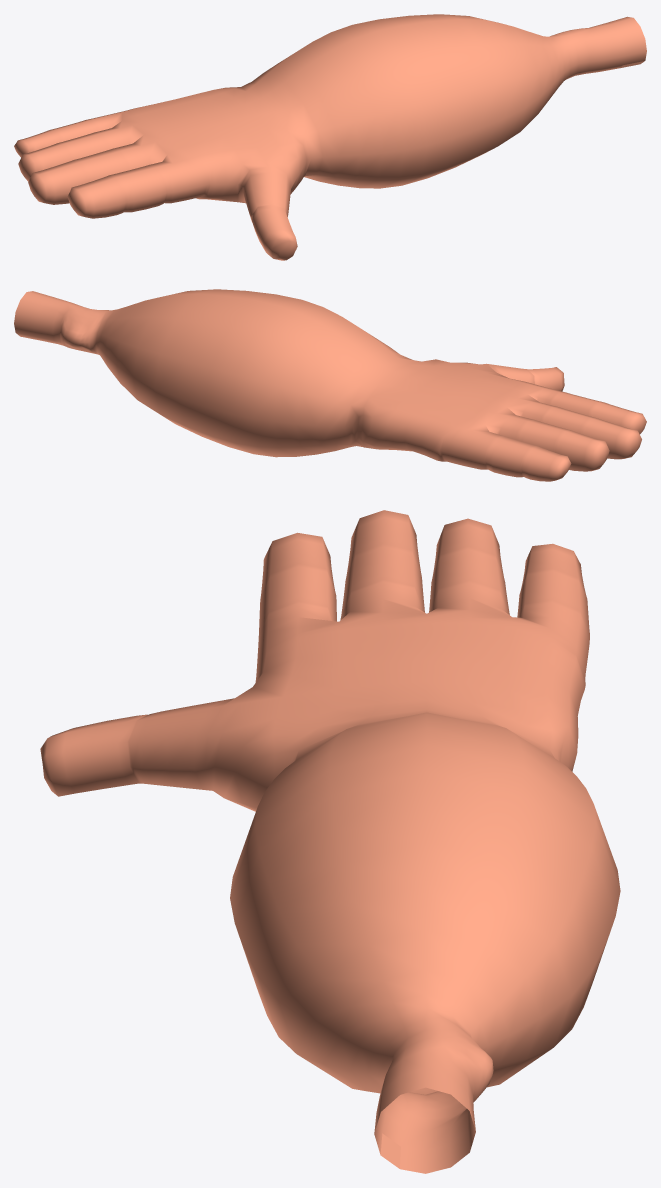
File: left_arm.obj
The picture shows the model from 3 angles, top to bottom: view 1: azimuth 30°, elevation 25°; view 2: azimuth 150°, elevation 25°; view 3: azimuth 270°, elevation 25°; orthographic projection. The views are drawn at different scales.
Visible parts, largest first — view 1: Popeye:PopeyeGeoarm_rgt; view 2: Popeye:PopeyeGeoarm_rgt; view 3: Popeye:PopeyeGeoarm_rgt.
Part boxes in pixels (x1,y1,x2,y2): Popeye:PopeyeGeoarm_rgt: [14, 14, 646, 260]; Popeye:PopeyeGeoarm_rgt: [14, 289, 646, 481]; Popeye:PopeyeGeoarm_rgt: [40, 510, 620, 1173].
Size of the model in its own units: 3.35 by 0.7521 by 1.4.
